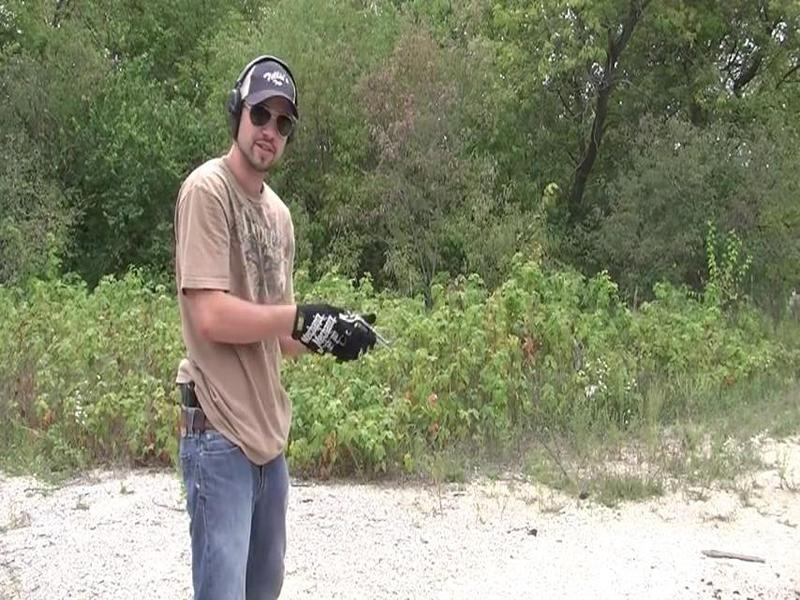Revolver: (309, 294, 390, 370)
